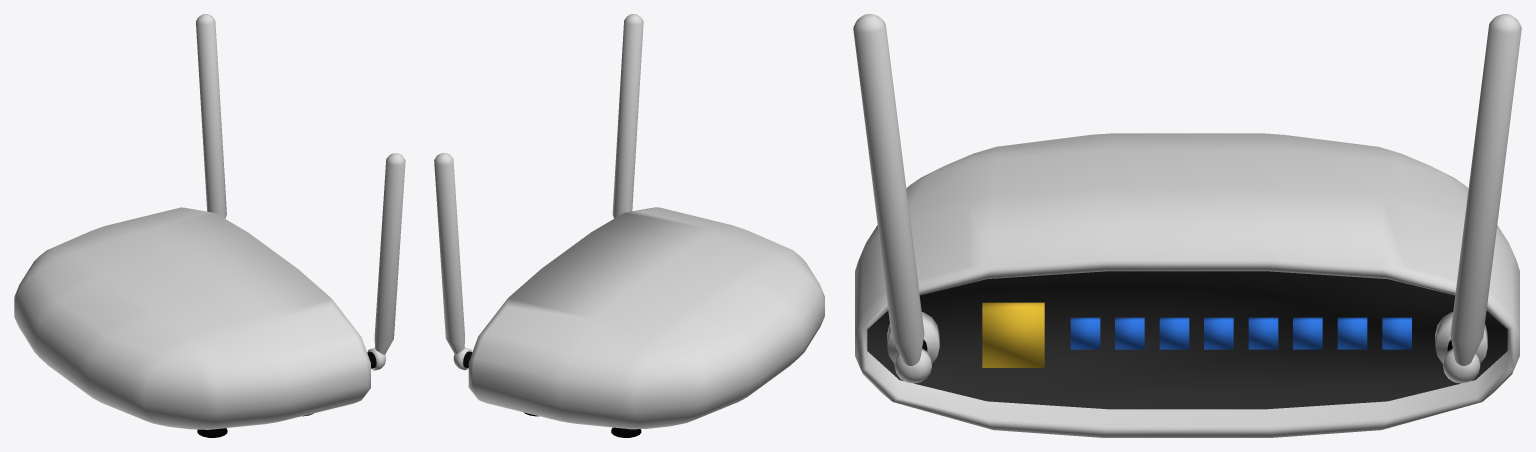
File: ruter.fbx
3 views of the same model, side by side, from view 1: azimuth 30°, elevation 25°; view 2: azimuth 150°, elevation 25°; view 3: azimuth 270°, elevation 25° (orthographic). The views are drawn at different scales.
Parts seen in each view (by area): view 1: Cylinder.001; view 2: Cylinder.001; view 3: Cylinder.001.
Part boxes in pixels (x1,y1,x2,y2): Cylinder.001: (14,14,405,437); Cylinder.001: (434,14,824,437); Cylinder.001: (853,14,1521,437).
Size of the model in its own units: 96.55 by 97.57 by 133.
